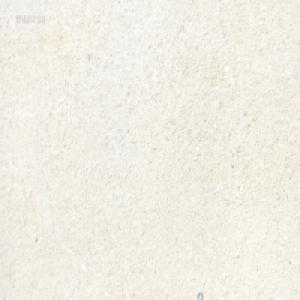Washer: (197, 290, 203, 299)
